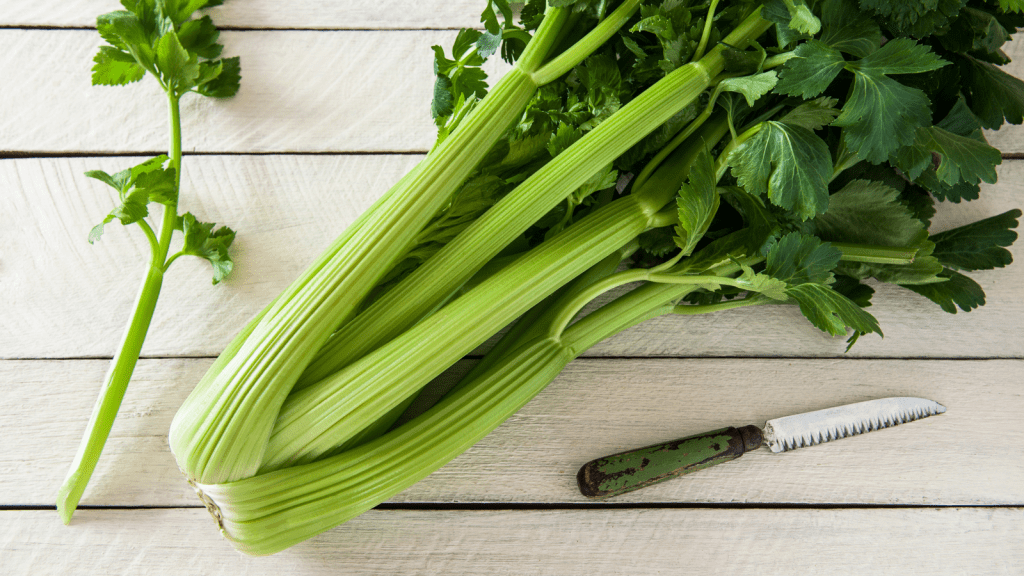Seledri: (309, 5, 1015, 343)
